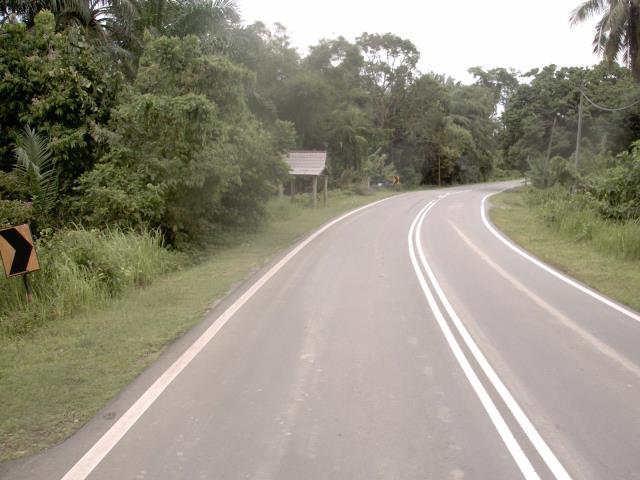traffic_sign: (0, 215, 44, 289)
